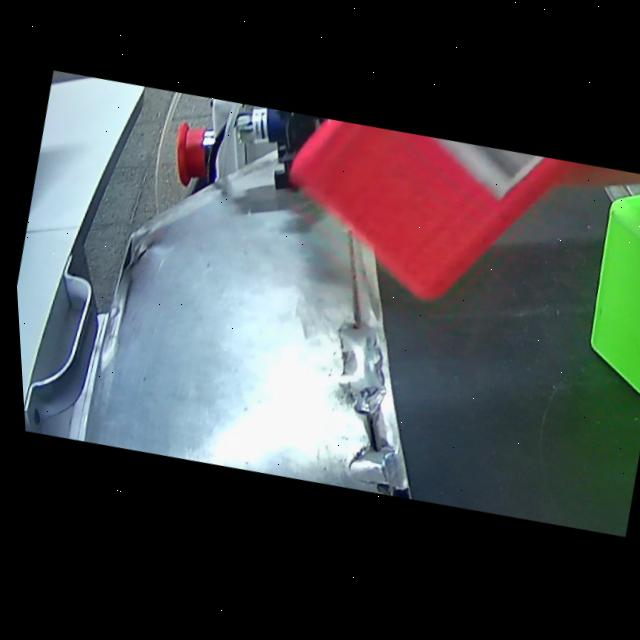greenBox: (543, 174, 640, 480)
redBox: (254, 103, 631, 356)
